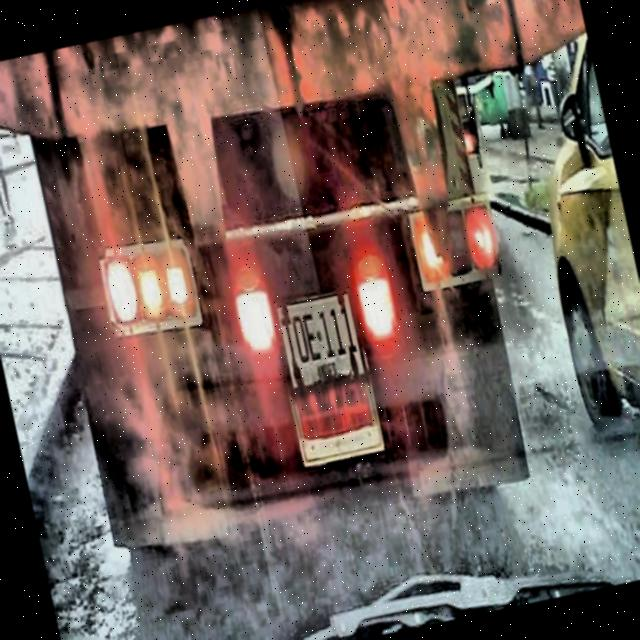1: (336, 303, 358, 354), (327, 306, 347, 356), (317, 310, 337, 358)
E: (301, 312, 323, 362)
O: (290, 313, 311, 364)
T: (280, 316, 300, 366)
